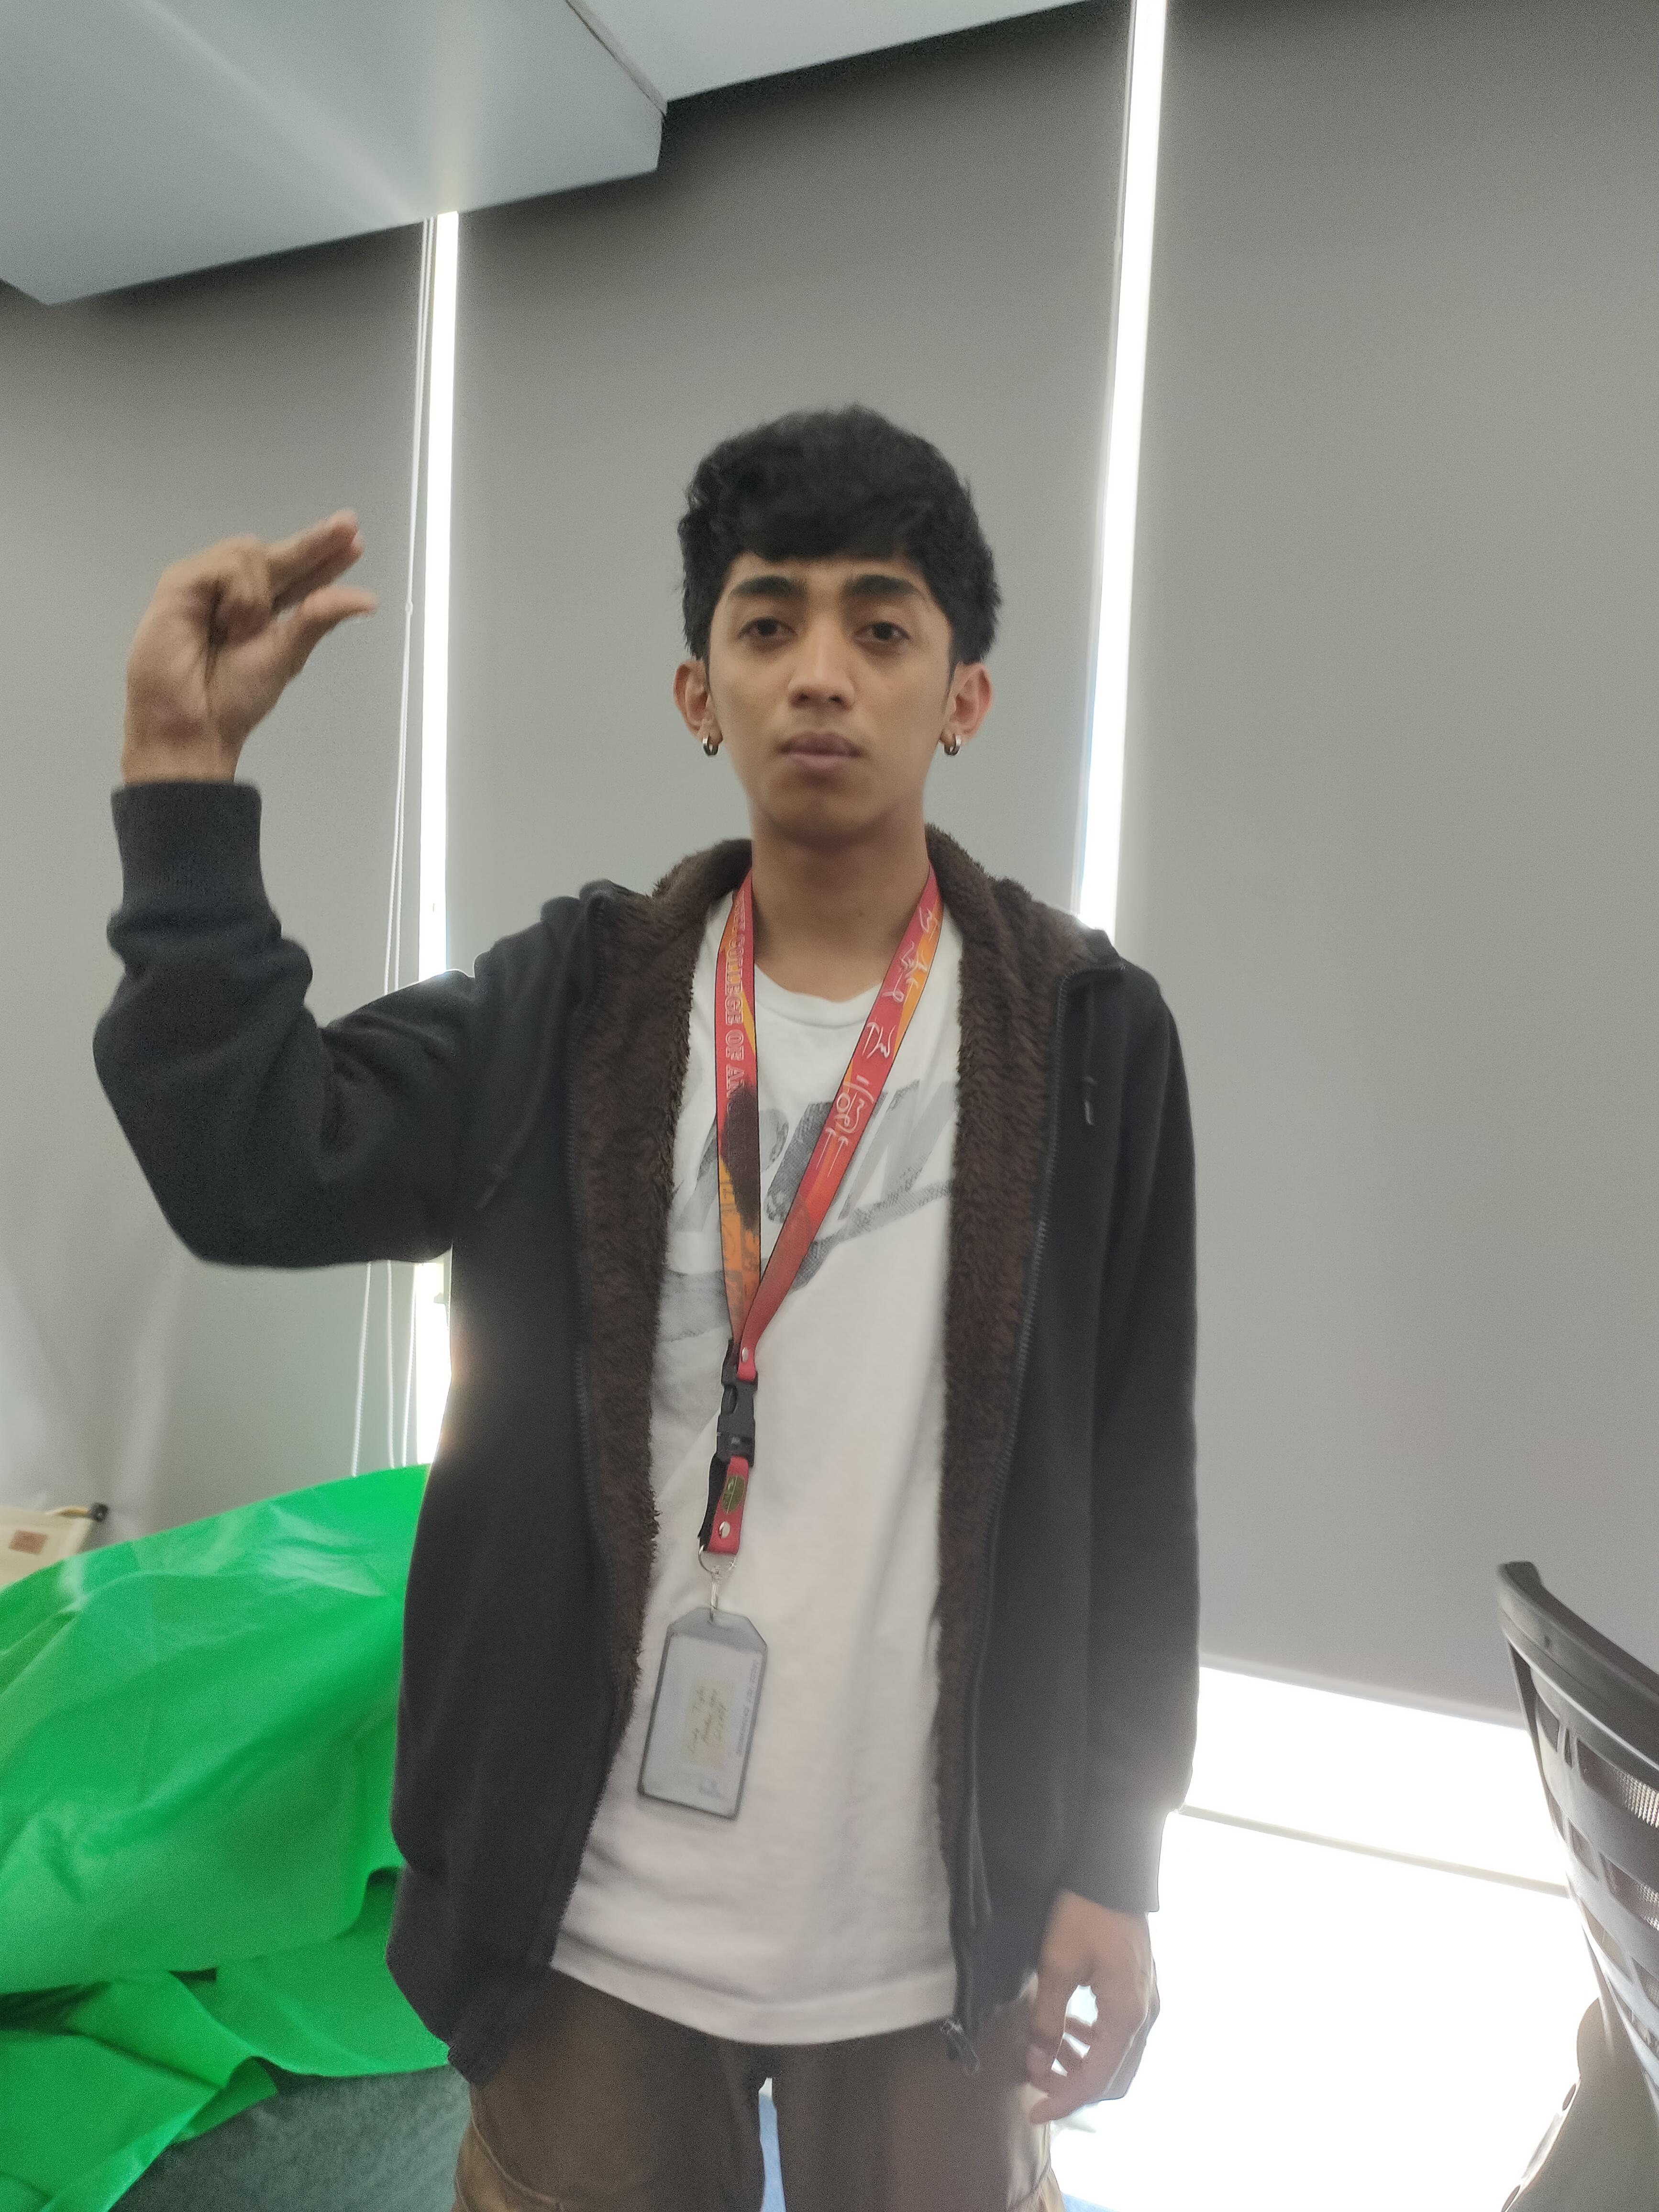No: (120, 500, 418, 735)
